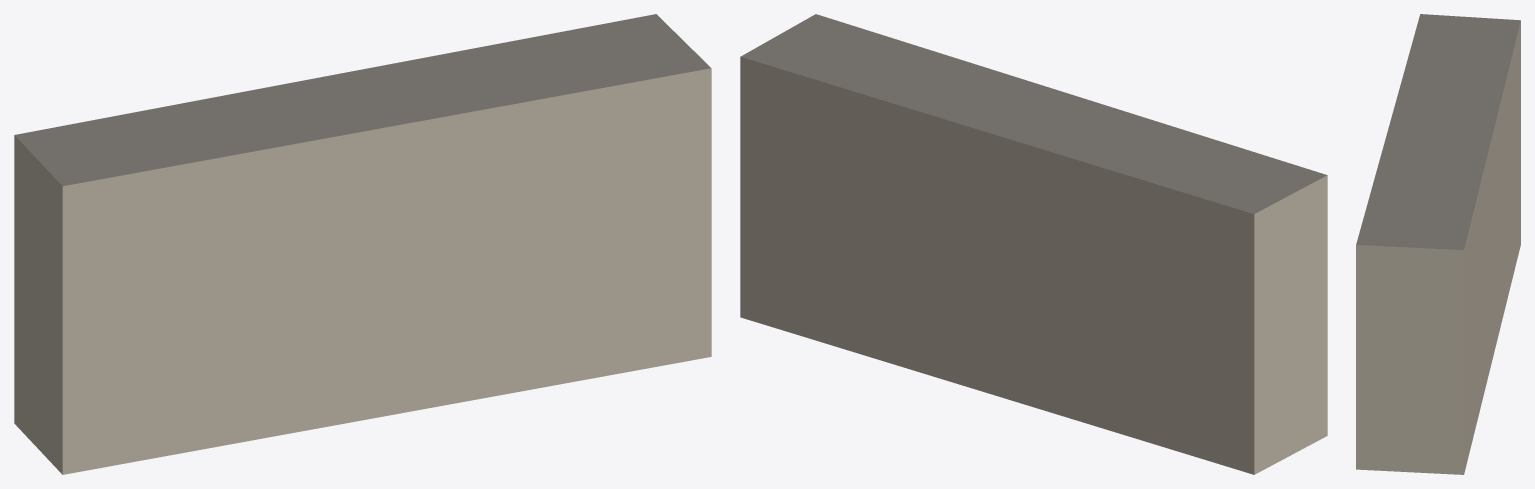
3 views of the same model, side by side, from view 1: azimuth 30°, elevation 25°; view 2: azimuth 150°, elevation 25°; view 3: azimuth 270°, elevation 25° (orthographic). The views are drawn at different scales.
Visible parts, largest first — view 1: HP-w505643556; view 2: HP-w505643556; view 3: HP-w505643556.
Boxes of the visible parts, x1,y1,x2,y2 form: HP-w505643556: [14, 14, 711, 474]; HP-w505643556: [740, 14, 1327, 474]; HP-w505643556: [1356, 14, 1520, 474].
Size of the model in its own units: 33.82 by 15 by 9.97.
